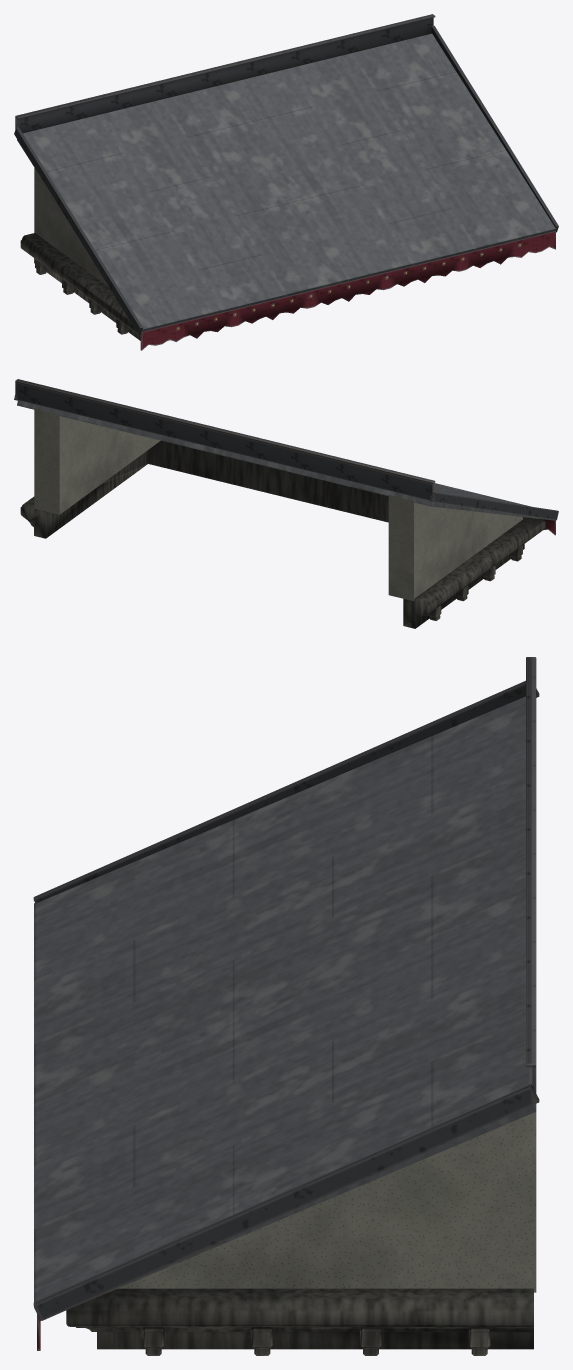
File: LeanToRoof.fbx
3 renders of one model, top to bottom at view 1: azimuth 30°, elevation 25°; view 2: azimuth 150°, elevation 25°; view 3: azimuth 270°, elevation 25°, orthographic. The views are drawn at different scales.
Parts seen in each view (by area): view 1: LeanToRoof_Lead, LeanToRoof_Main, LeanToRoof_Stone; view 2: LeanToRoof_Main, LeanToRoof_Stone, LeanToRoof_Lead; view 3: LeanToRoof_Lead, LeanToRoof_Main, LeanToRoof_Stone.
Part boxes in pixels (<box>): LeanToRoof_Lead: <box>17,33,556,334</box>; LeanToRoof_Main: <box>14,14,558,350</box>; LeanToRoof_Stone: <box>34,168,108,286</box>; LeanToRoof_Main: <box>14,379,558,628</box>; LeanToRoof_Stone: <box>34,408,522,601</box>; LeanToRoof_Lead: <box>17,400,554,520</box>; LeanToRoof_Lead: <box>34,696,536,1320</box>; LeanToRoof_Main: <box>33,657,539,1355</box>; LeanToRoof_Stone: <box>118,1112,536,1292</box>.
Bounding box in the file's own units: 1323 × 457 × 692.
